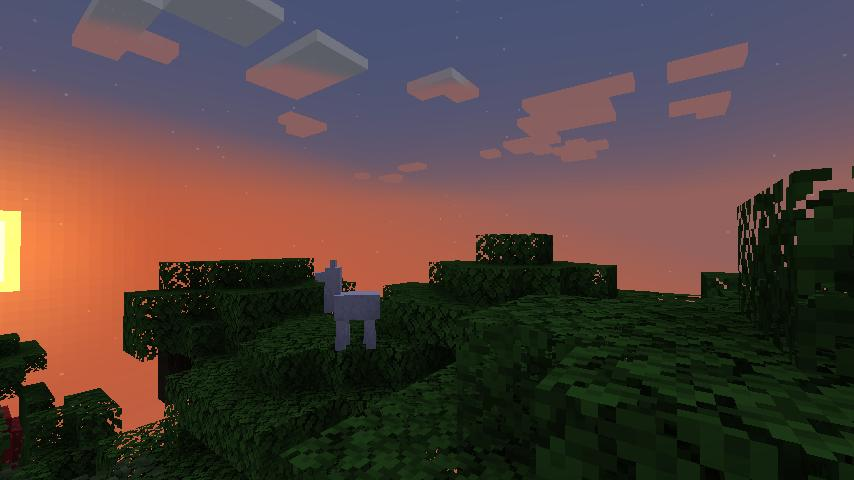llama: (313, 257, 383, 353)
